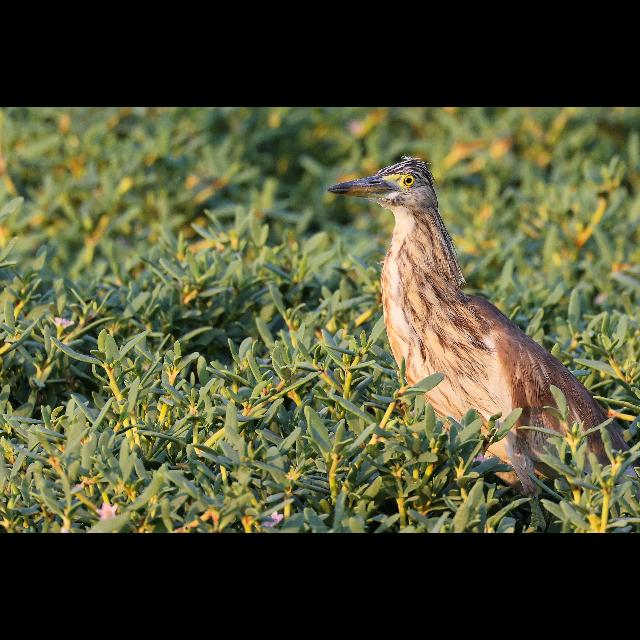heron: (324, 148, 636, 518)
